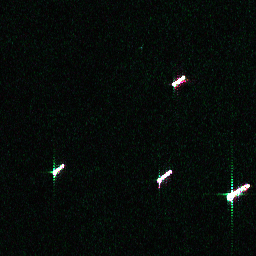ship: (223, 181, 252, 202), (154, 166, 173, 184), (49, 160, 66, 177), (169, 72, 186, 88)
